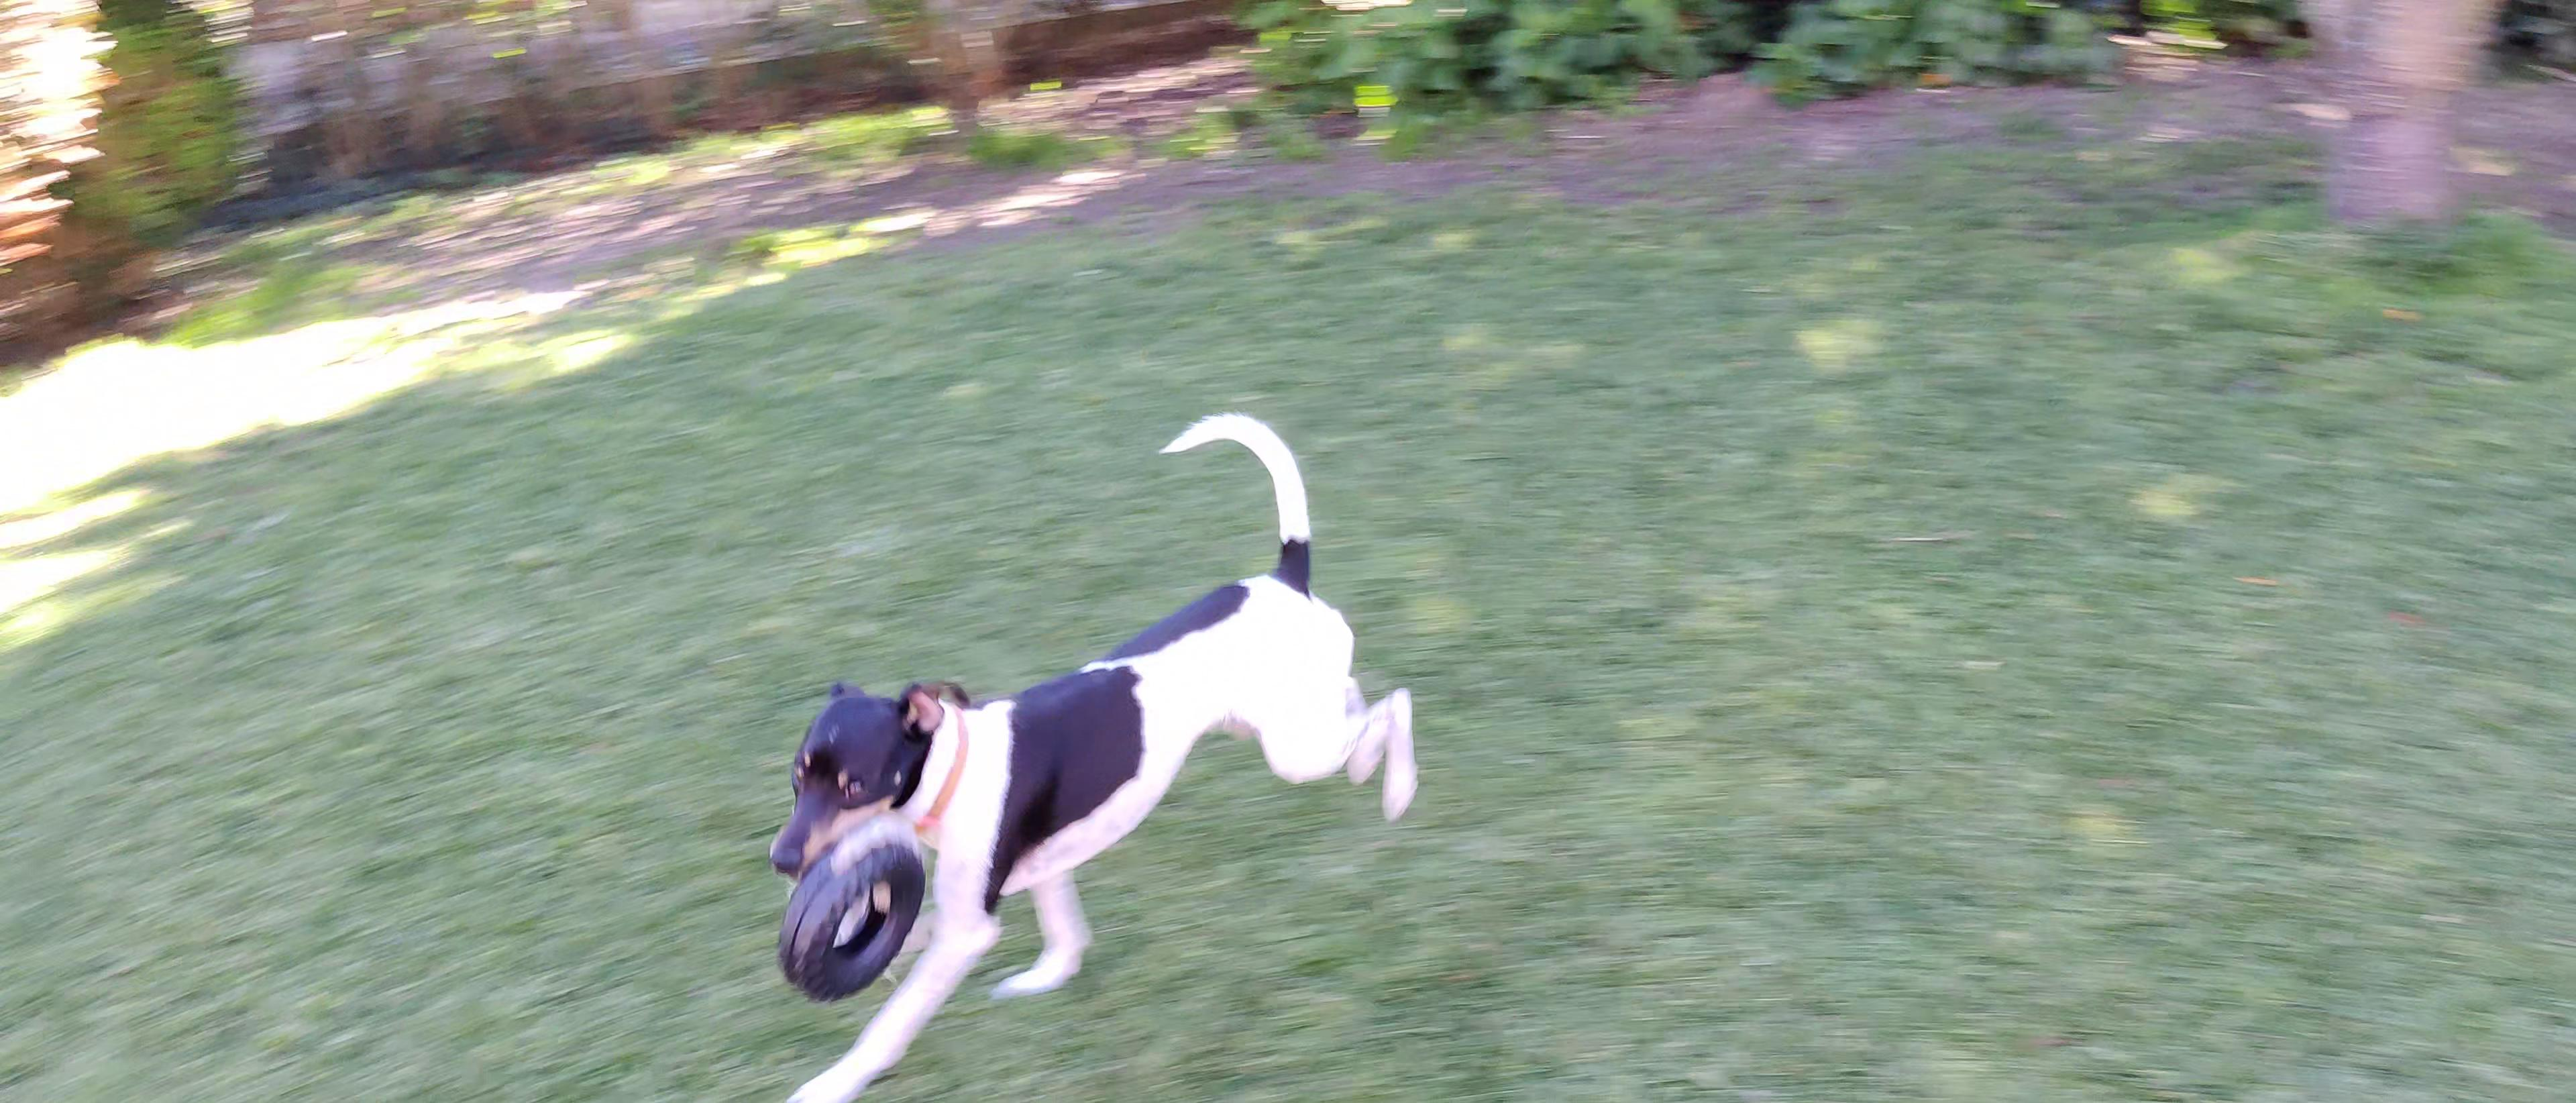Dog: (731, 398, 1444, 1103)
